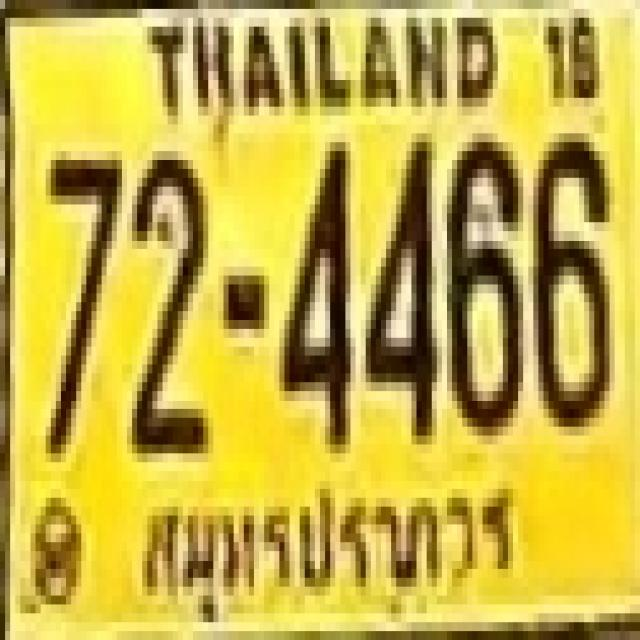2: (127, 147, 203, 449)
4: (361, 134, 432, 436), (277, 138, 348, 440)
6: (442, 133, 518, 427), (528, 124, 604, 418)
7: (46, 151, 117, 453)
SPK: (134, 475, 530, 612)
